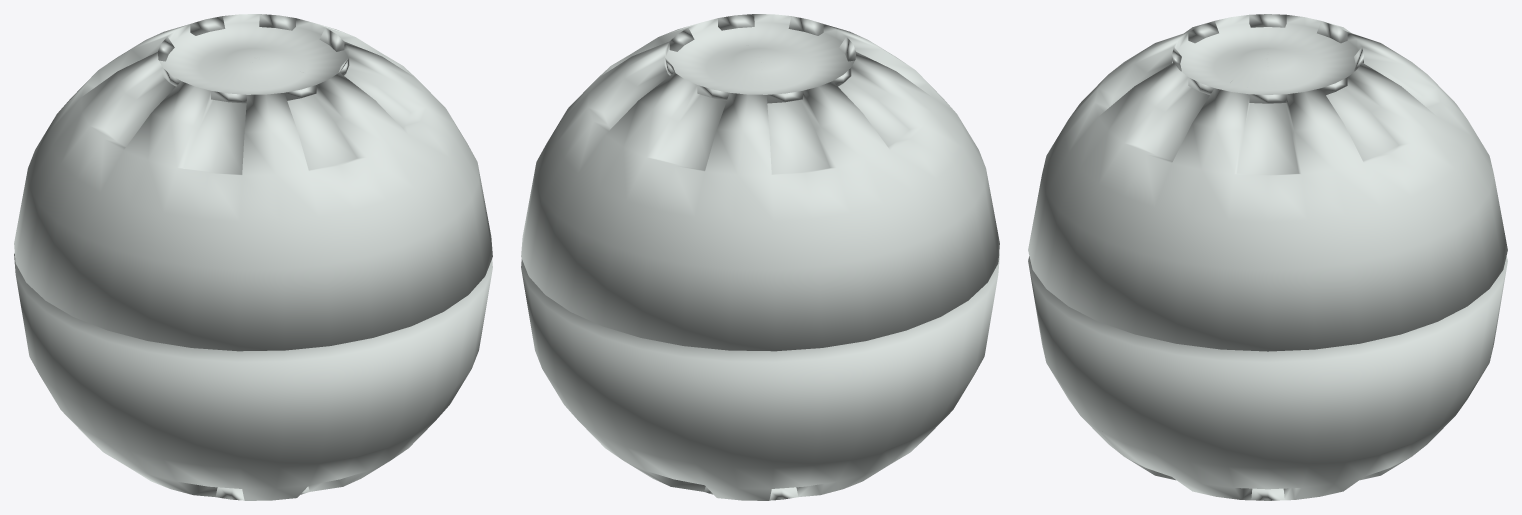
File: bolaHamster.fbx
The picture shows the model from 3 angles, left to right: view 1: azimuth 30°, elevation 25°; view 2: azimuth 150°, elevation 25°; view 3: azimuth 270°, elevation 25°; orthographic projection.
Visible parts, largest first — view 1: Sphere; view 2: Sphere; view 3: Sphere.
Part boxes in pixels (<box>): Sphere: <box>14,14,492,500</box>; Sphere: <box>521,14,999,500</box>; Sphere: <box>1028,14,1507,500</box>.
Size of the model in its own units: 54.1 by 51.64 by 54.1.
Materials: 1 (1 with a texture image).
